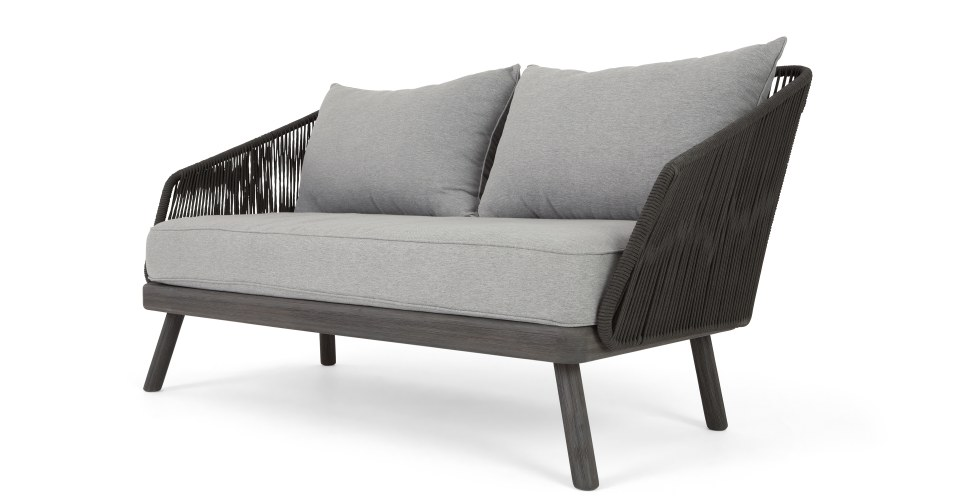chairs: (140, 38, 814, 491)
